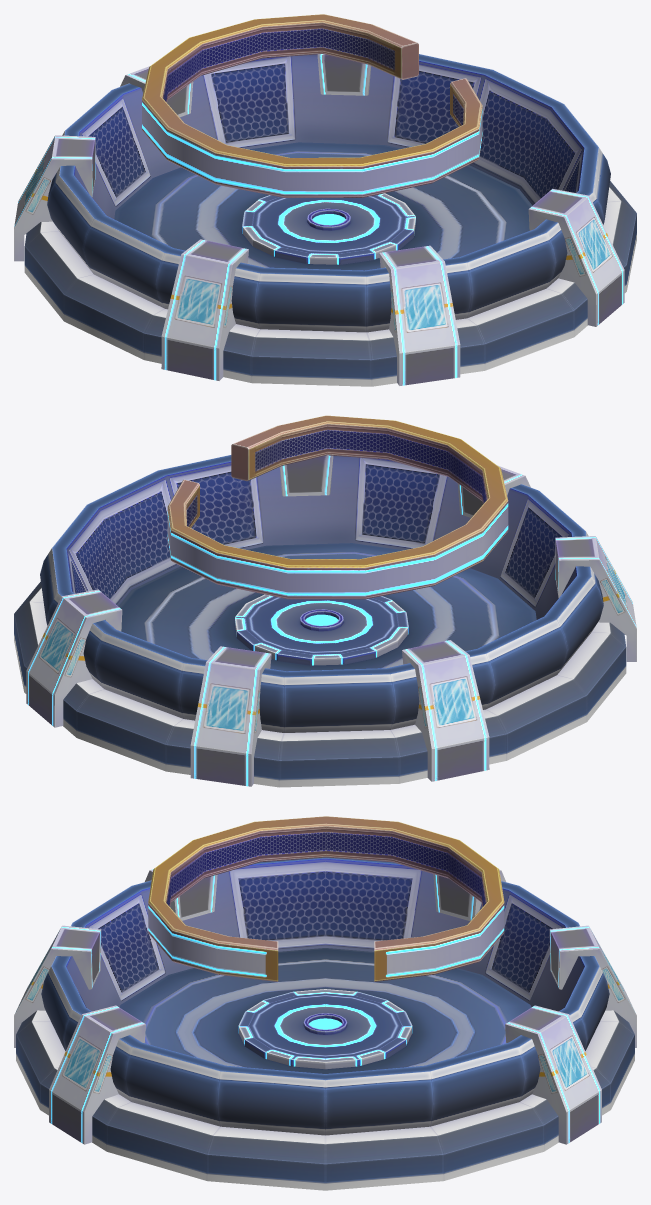
The model's file is Banco de mejora.fbx.
3 renders of one model, top to bottom at view 1: azimuth 30°, elevation 25°; view 2: azimuth 150°, elevation 25°; view 3: azimuth 270°, elevation 25°, orthographic.
Parts seen in each view (by area): view 1: Base_Banco_Mejora, Aro; view 2: Base_Banco_Mejora, Aro; view 3: Base_Banco_Mejora, Aro.
Part boxes in pixels (<box>): Base_Banco_Mejora: <box>14,54,636,386</box>; Aro: <box>142,14,482,197</box>; Base_Banco_Mejora: <box>14,455,636,787</box>; Aro: <box>167,415,508,599</box>; Base_Banco_Mejora: <box>14,857,636,1190</box>; Aro: <box>148,816,504,981</box>.
Size of the model in its own units: 463 by 140 by 472.
